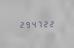four: (30, 20, 35, 28)
nine: (23, 20, 28, 28)
seven: (36, 20, 41, 27)
two: (17, 20, 22, 28), (42, 19, 47, 27), (48, 19, 53, 27)
